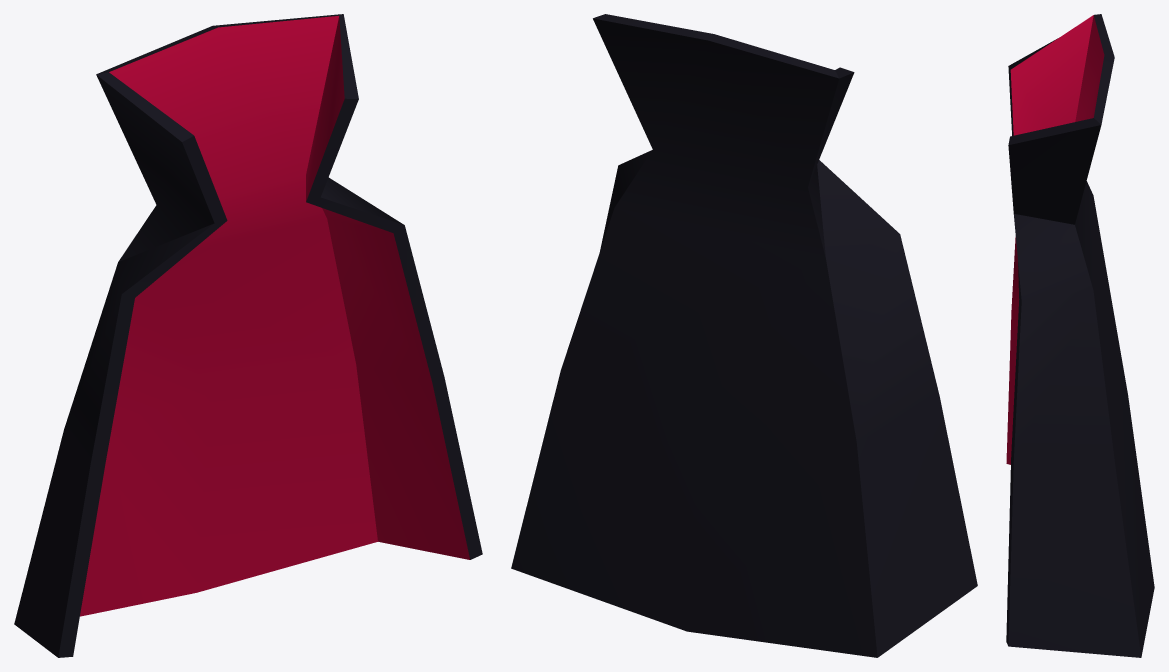
File: Vampiro.obj
3 views of the same model, side by side, from view 1: azimuth 30°, elevation 25°; view 2: azimuth 150°, elevation 25°; view 3: azimuth 270°, elevation 25° (orthographic). The views are drawn at different scales.
Visible parts, largest first — view 1: Capa_Vampiro; view 2: Capa_Vampiro; view 3: Capa_Vampiro.
Boxes of the visible parts, box(x1,y1,x2,y2) form: Capa_Vampiro: box(14, 14, 482, 657); Capa_Vampiro: box(511, 14, 977, 657); Capa_Vampiro: box(1006, 14, 1154, 657).
Size of the model in its own units: 16.93 by 22.15 by 5.58.
1 material, 1 textured.
